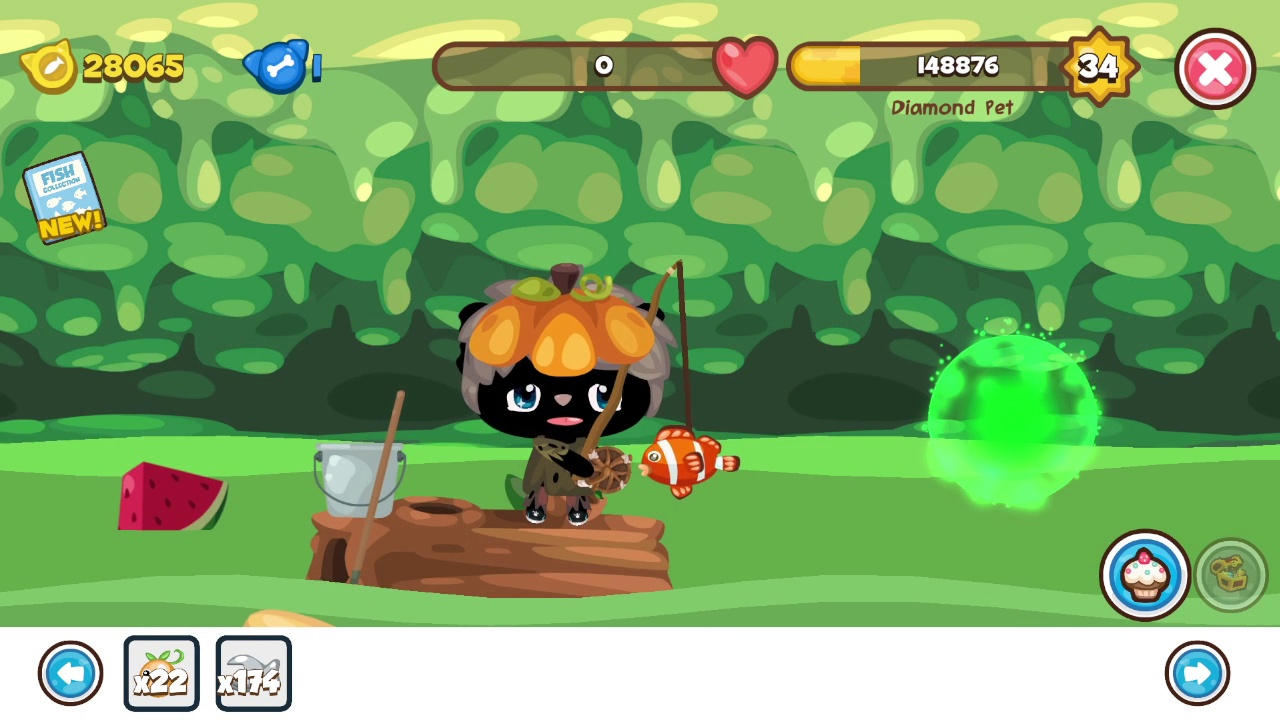point: (923, 331, 1099, 501)
